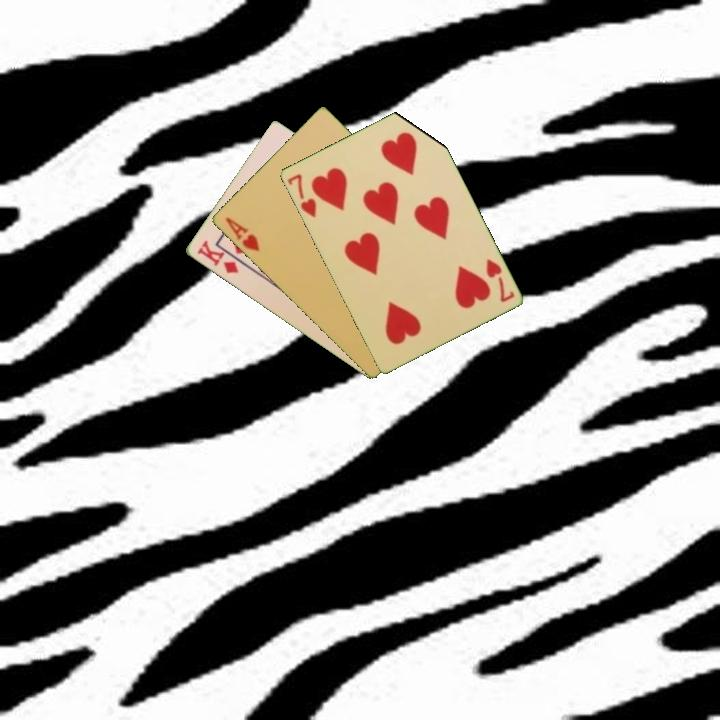7h: (284, 170, 319, 220), (482, 255, 517, 305)
Ah: (221, 214, 262, 254)
Kd: (193, 236, 241, 277)
